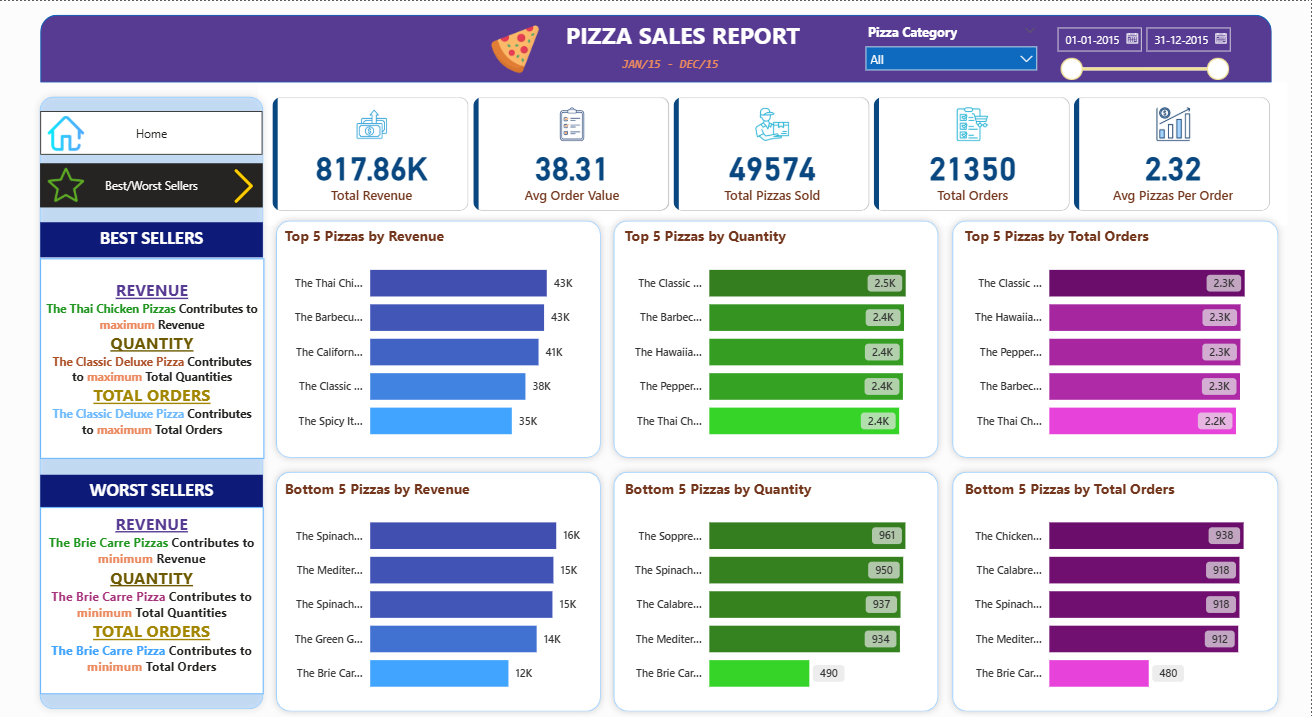

This screenshot's page, from the dashboard's own definition file:
{"tool":"powerbi","page":{"name":"Best/Worst Sellers","canvas":[1500,820],"ordinal":1},"visuals":[{"type":"cardVisual","fields":{"Data":["pizza_sales.Total Revenue","pizza_sales.Avg Order Value","pizza_sales.Total Pizzas Sold","pizza_sales.Total Orders","pizza_sales.Avg Pizzas Per Order"]},"box":[295.7,92.9,1177.1,164.3],"z":0},{"type":"shape","box":[38.6,101.4,271.4,715.7],"z":1000},{"type":"shape","box":[47.5,15,1407.5,77.5],"z":2000},{"type":"textbox","box":[643.3,15.6,280,60],"z":3000},{"type":"textbox","box":[693.3,56.7,148.3,36.7],"z":4000},{"type":"image","box":[561.1,24.4,56.7,62.2],"z":5000},{"type":"shape","box":[308.6,242.9,387.1,287.1],"z":6000},{"type":"textbox","box":[47.1,252.9,254,40],"z":7000},{"type":"textbox","box":[47.1,294.3,255.7,228.6],"z":8000},{"type":"textbox","box":[46.7,578.9,255,213.3],"z":9000},{"type":"textbox","box":[47.1,541.4,254,37.1],"z":10000},{"type":"slicer","fields":{"Values":["pizza_sales.pizza_category"]},"box":[980,20,216.7,70],"z":11000},{"type":"slicer","fields":{"Values":["pizza_sales.order_date"]},"box":[1196.7,20,216.7,76.7],"z":12000},{"type":"shape","box":[694.3,242.9,387.1,287.1],"z":13000},{"type":"shape","box":[1081.4,242.9,388.6,287.1],"z":14000},{"type":"shape","box":[694.3,530,387.1,290],"z":15000},{"type":"shape","box":[1081.4,530,388.6,290],"z":16000},{"type":"shape","box":[308.6,530,387.1,290],"z":17000},{"type":"barChart","title":"Top 5 Pizzas by Revenue","fields":{"Category":["pizza_sales.pizza_name"],"Y":["pizza_sales.Total Revenue"]},"box":[321.4,257.1,360,260],"z":18000},{"type":"barChart","title":"Bottom 5 Pizzas by Revenue","fields":{"Category":["pizza_sales.pizza_name"],"Y":["pizza_sales.Total Revenue"]},"box":[321.4,545.7,360,260],"z":19000},{"type":"barChart","title":"Top 5 Pizzas by Quantity","fields":{"Category":["pizza_sales.pizza_name"],"Y":["pizza_sales.Total Pizzas Sold"]},"box":[710,257.1,355.7,260],"z":20000},{"type":"barChart","title":"Bottom 5 Pizzas by Quantity","fields":{"Category":["pizza_sales.pizza_name"],"Y":["pizza_sales.Total Pizzas Sold"]},"box":[710,545.7,355.7,260],"z":21000},{"type":"barChart","title":"Top 5 Pizzas by Total Orders","fields":{"Category":["pizza_sales.pizza_name"],"Y":["pizza_sales.Total Orders"]},"box":[1098.6,257.1,355.7,260],"z":22000},{"type":"barChart","title":"Bottom 5 Pizzas by Total Orders","fields":{"Category":["pizza_sales.pizza_name"],"Y":["pizza_sales.Total Orders"]},"box":[1098.6,545.7,355.7,260],"z":23000},{"type":"pageNavigator","box":[47.1,185.7,254.3,50],"z":23001},{"type":"pageNavigator","box":[47.1,125.7,254.3,50],"z":23002},{"type":"image","box":[255.5,190.9,47.3,40],"z":23003},{"type":"image","box":[55.7,125.7,41.4,51.4],"z":23004},{"type":"image","box":[56.2,186.2,41.2,48.8],"z":23005}]}

Visuals, with their boxes in screenshot pixels (x1, y1, x2, y2), scaled from the page's 1500x820 canvas onto the 1312x717 screenshot:
cardVisual - pizza_sales.Total Revenue x pizza_sales.Avg Order Value: 259 81 1288 225
shape: 34 89 271 714
shape: 42 13 1273 81
textbox: 563 14 808 66
textbox: 606 50 736 82
image: 491 21 540 76
shape: 270 212 609 463
textbox: 41 221 263 256
textbox: 41 257 265 457
textbox: 41 506 264 693
textbox: 41 473 263 506
slicer - pizza_sales.pizza_category: 857 17 1047 79
slicer - pizza_sales.order_date: 1047 17 1236 85
shape: 607 212 946 463
shape: 946 212 1286 463
shape: 607 463 946 716
shape: 946 463 1286 716
shape: 270 463 609 716
"Top 5 Pizzas by Revenue" barChart: 281 225 596 452
"Bottom 5 Pizzas by Revenue" barChart: 281 477 596 704
"Top 5 Pizzas by Quantity" barChart: 621 225 932 452
"Bottom 5 Pizzas by Quantity" barChart: 621 477 932 704
"Top 5 Pizzas by Total Orders" barChart: 961 225 1272 452
"Bottom 5 Pizzas by Total Orders" barChart: 961 477 1272 704
pageNavigator: 41 162 264 206
pageNavigator: 41 110 264 154
image: 223 167 265 202
image: 49 110 85 155
image: 49 163 85 205
